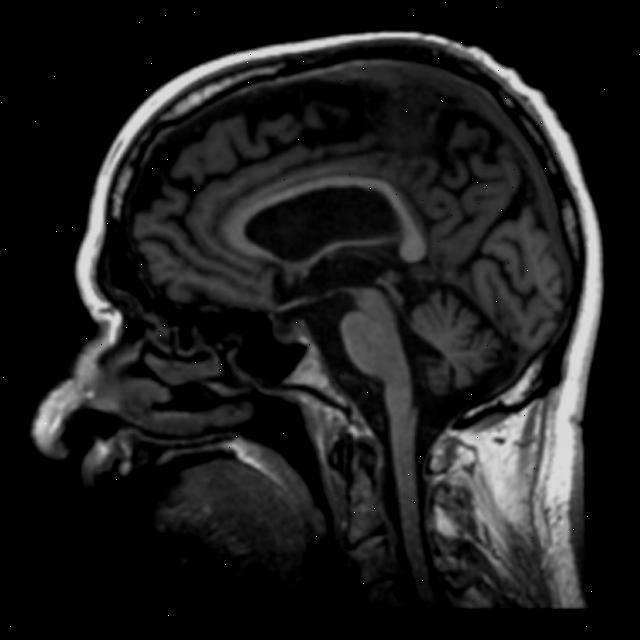NoTumor: (108, 11, 621, 410)
